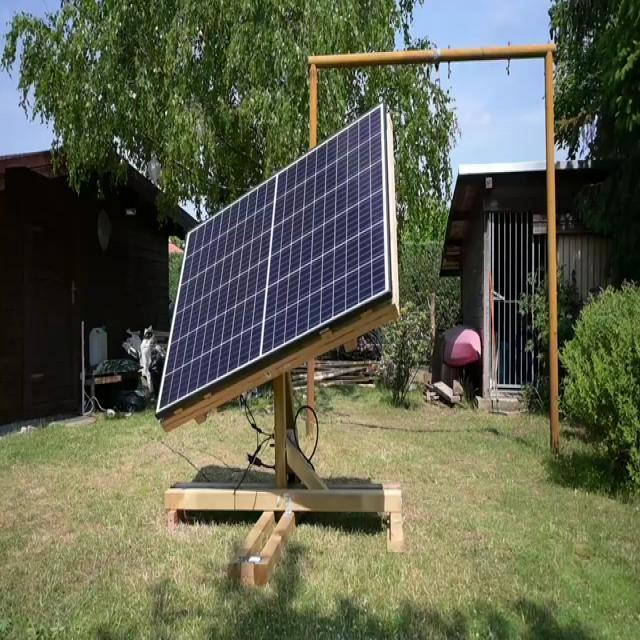Normal Solar Panel: (158, 109, 391, 416)
